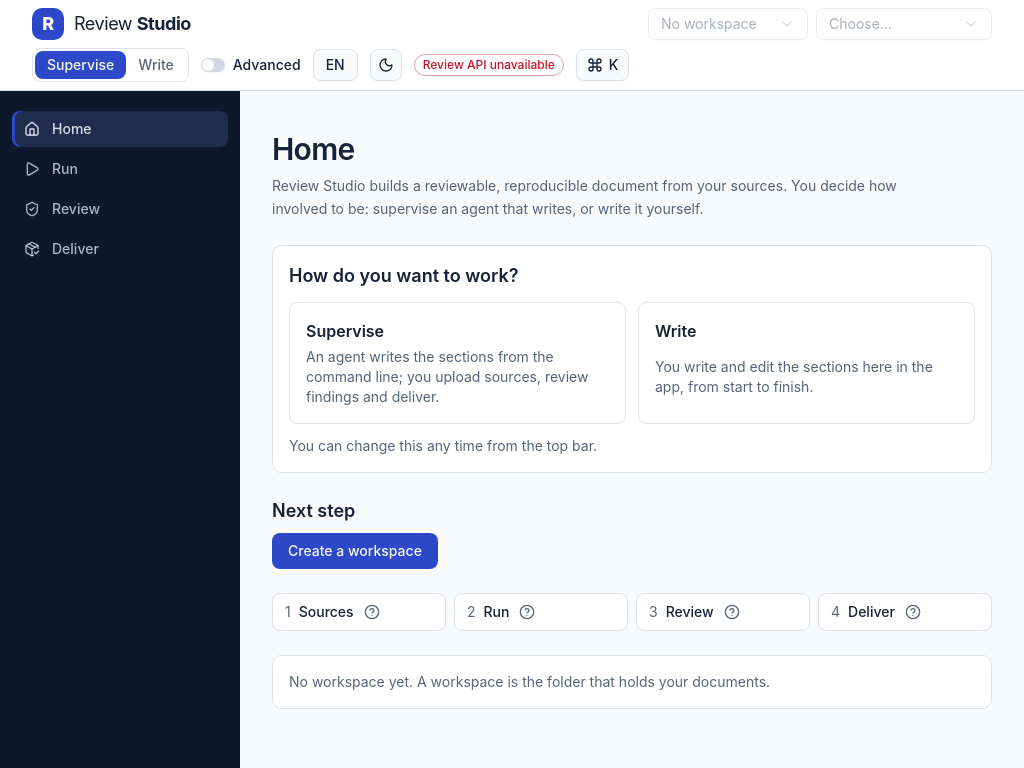
Scenario: application shell › navigates from a palette item
Click the button named "Open command menu" at (603, 65), box [576, 49, 629, 81]
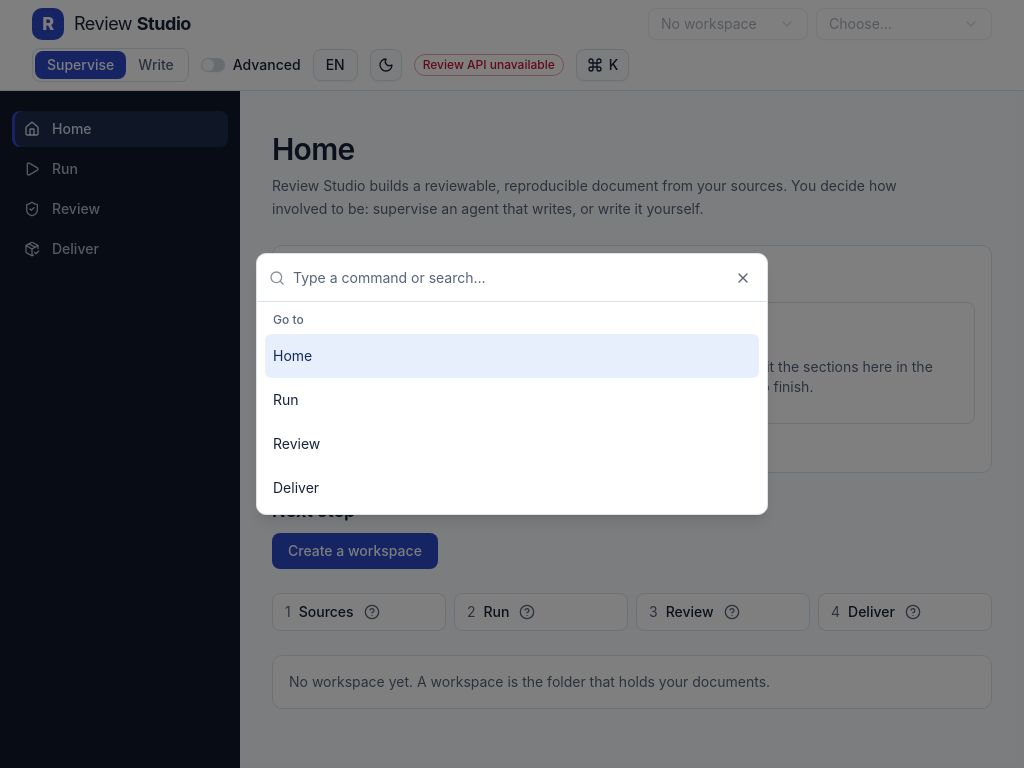
Click the option "Deliver" at (296, 488), box [273, 479, 319, 496]
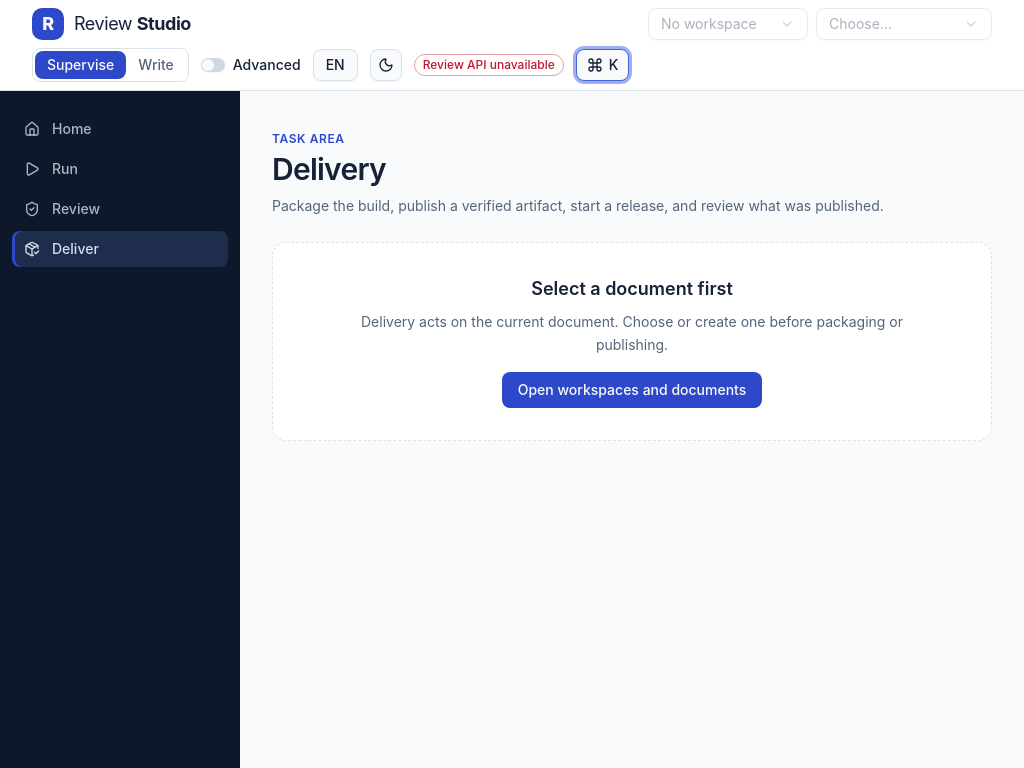
Now the heading "Delivery" is shown, box [272, 151, 386, 187]
